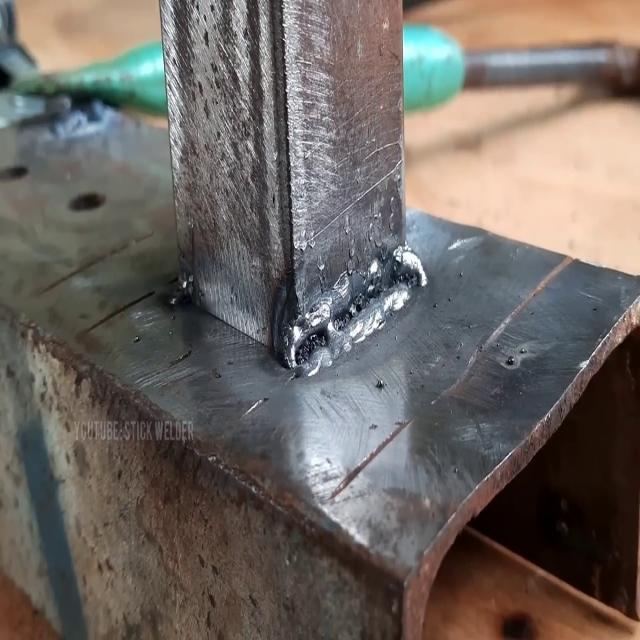Bad Weld: (274, 242, 429, 371)
Defect: (332, 292, 370, 331), (293, 326, 329, 367)
